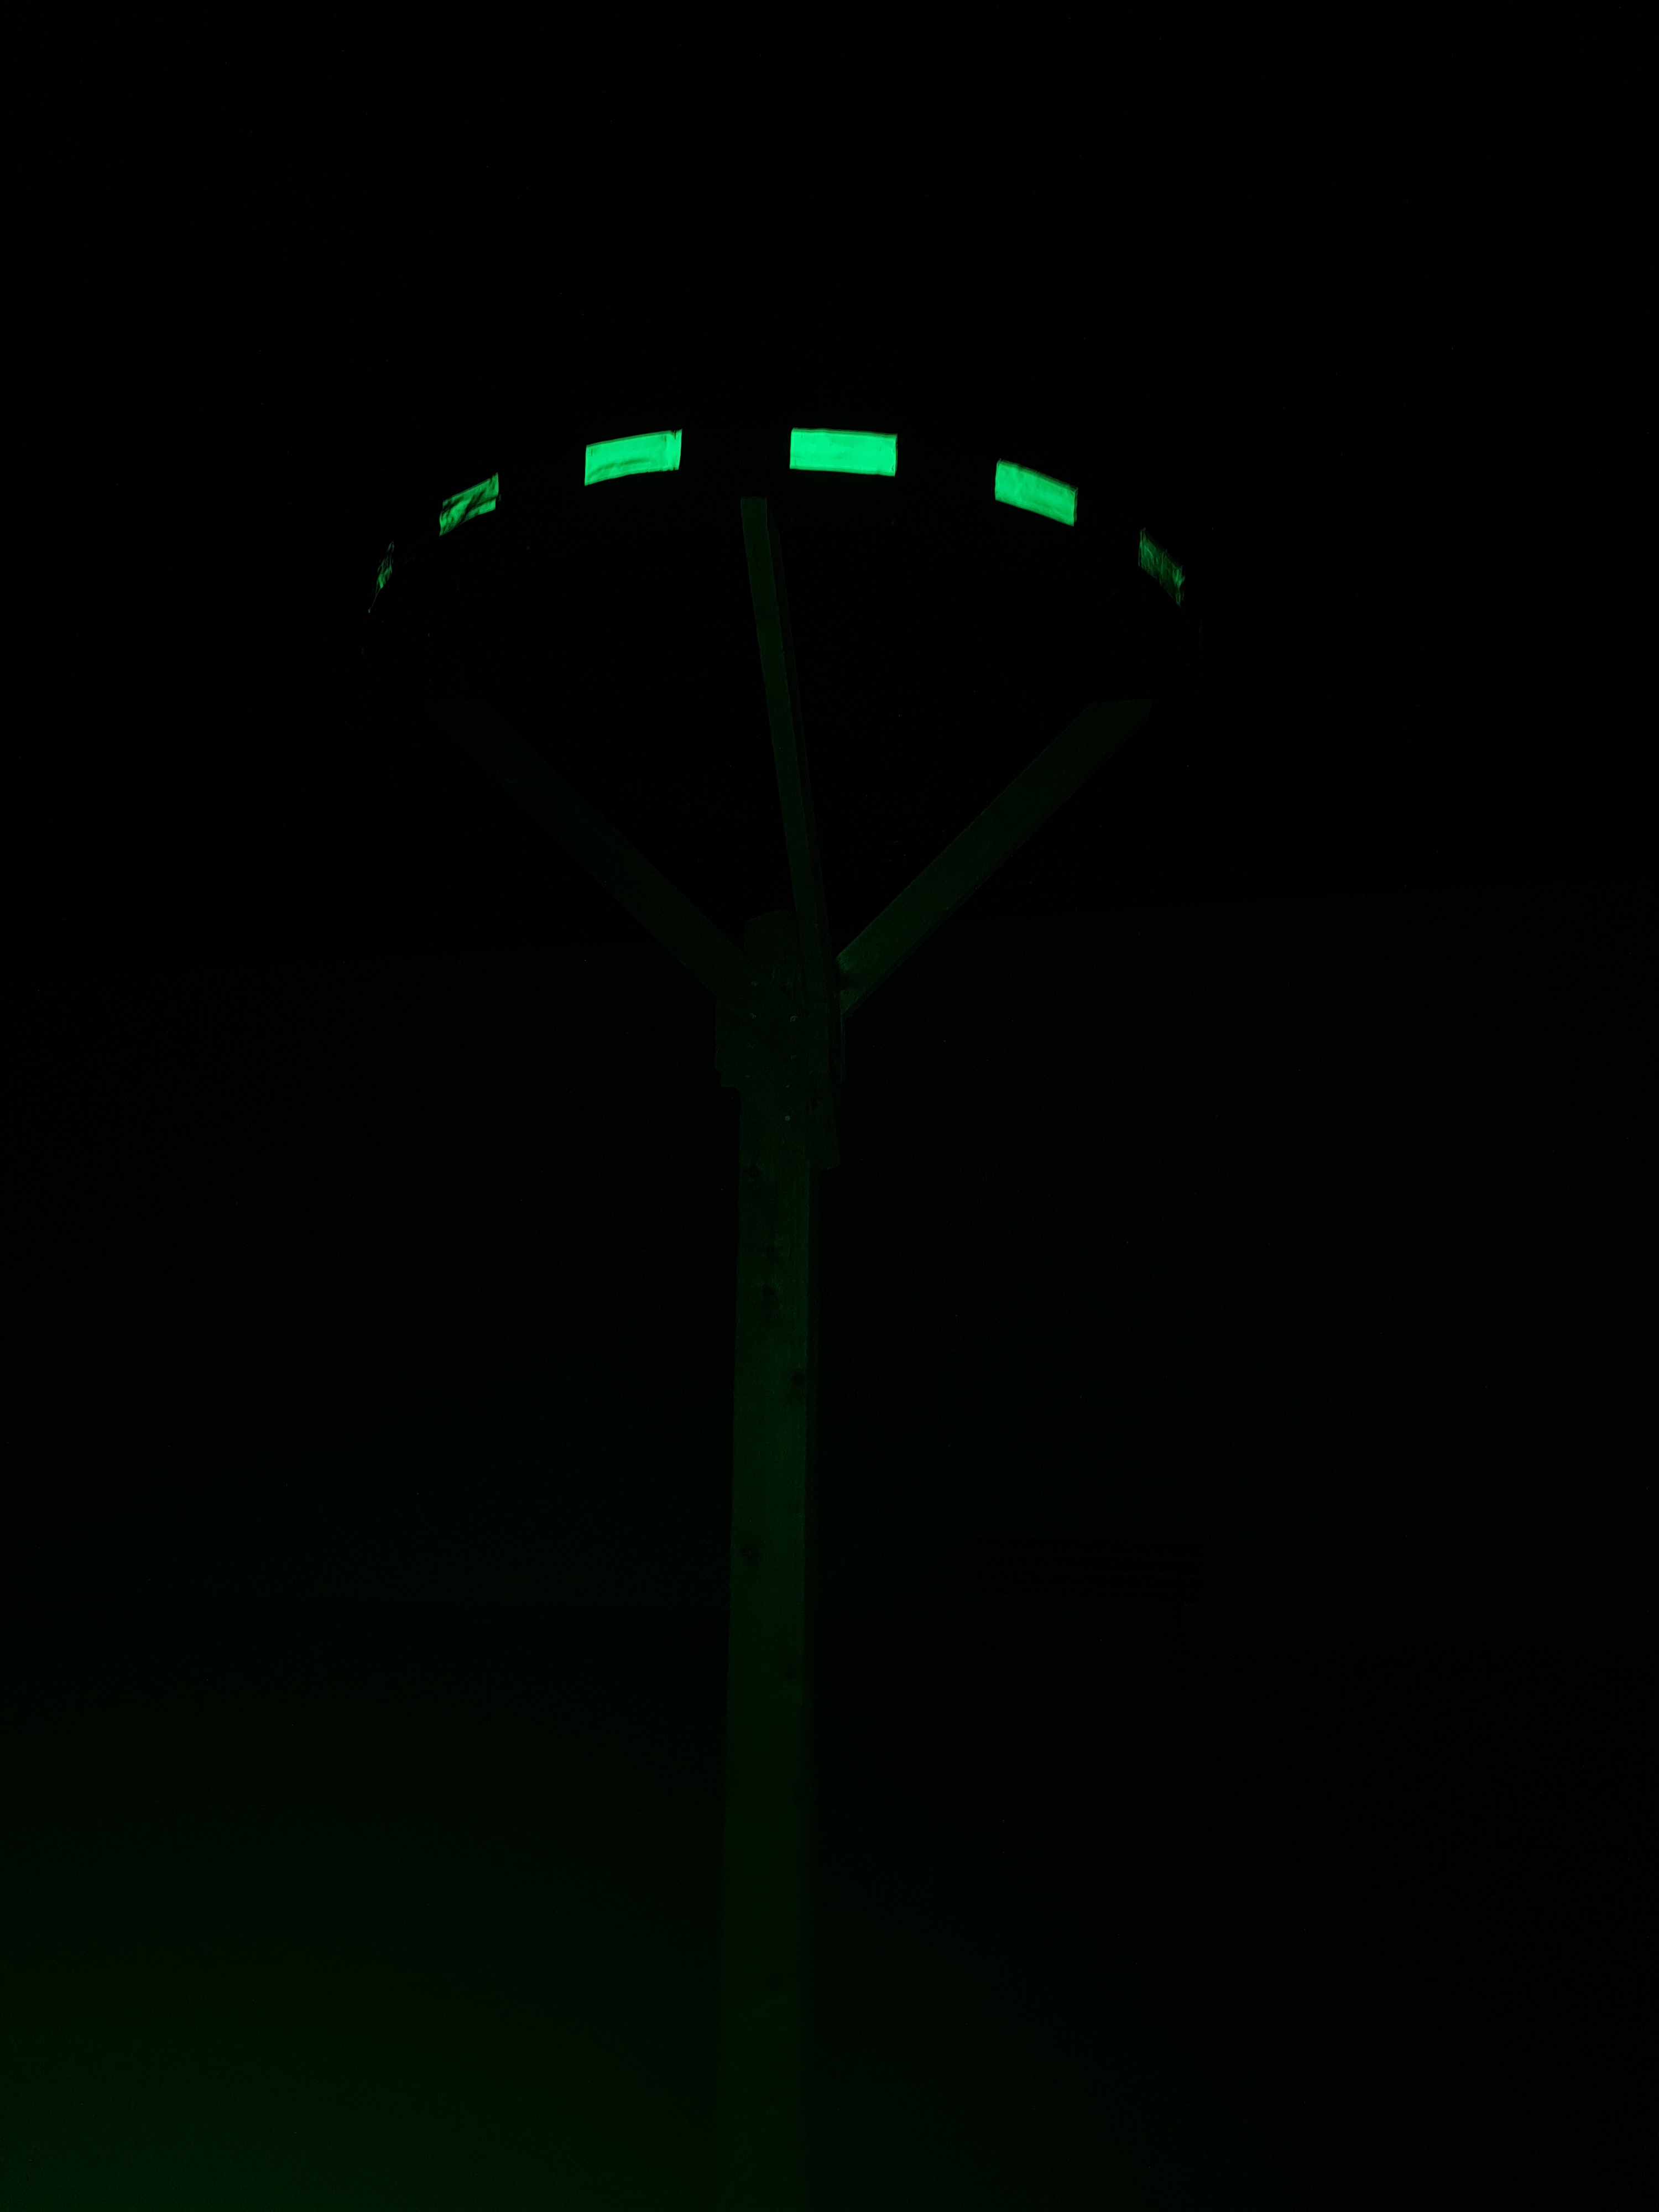hoop: (368, 428, 1187, 615)
